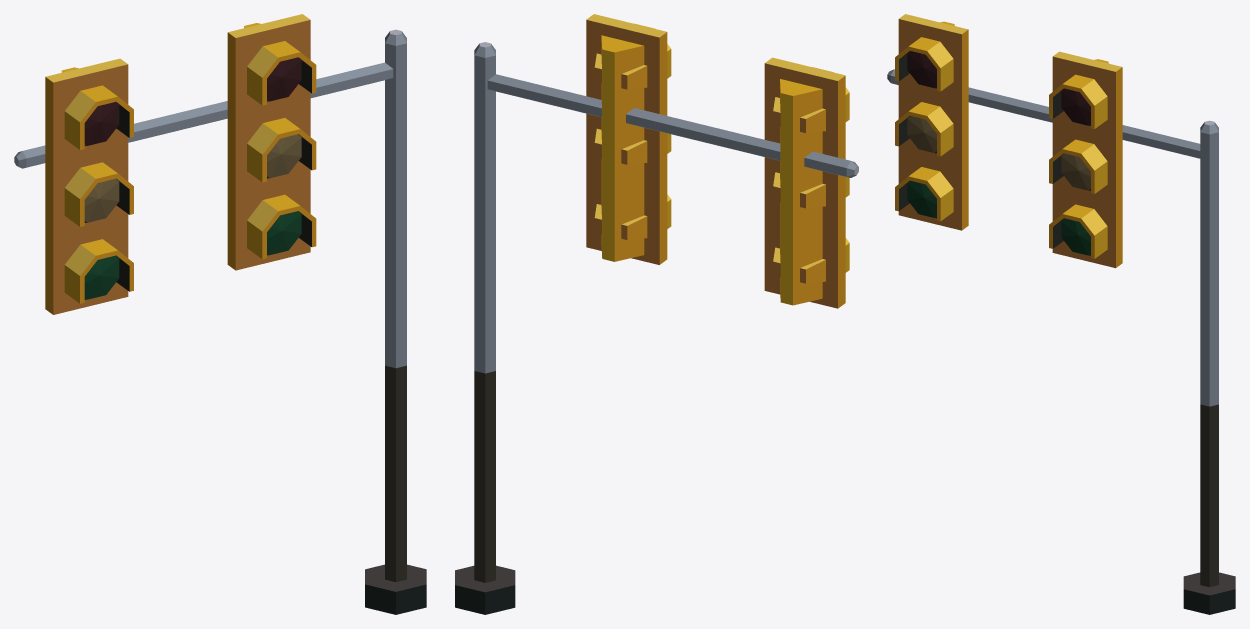
Rendered from TB_CITY_Prop_TrafficLight_HSet_Yellow.FBX.
3 renders of one model, left to right at view 1: azimuth 30°, elevation 25°; view 2: azimuth 150°, elevation 25°; view 3: azimuth 330°, elevation 25°, orthographic. The views are drawn at different scales.
Parts seen in each view (by area): view 1: TB_CITY_Prop_TrafficLight_HSet_Yellow; view 2: TB_CITY_Prop_TrafficLight_HSet_Yellow; view 3: TB_CITY_Prop_TrafficLight_HSet_Yellow.
Part boxes in pixels (x1,y1,x2,y2): TB_CITY_Prop_TrafficLight_HSet_Yellow: (14, 14, 426, 614); TB_CITY_Prop_TrafficLight_HSet_Yellow: (455, 14, 858, 614); TB_CITY_Prop_TrafficLight_HSet_Yellow: (887, 14, 1235, 614).
Size of the model in its own units: 5.62 by 8.02 by 1.04.
